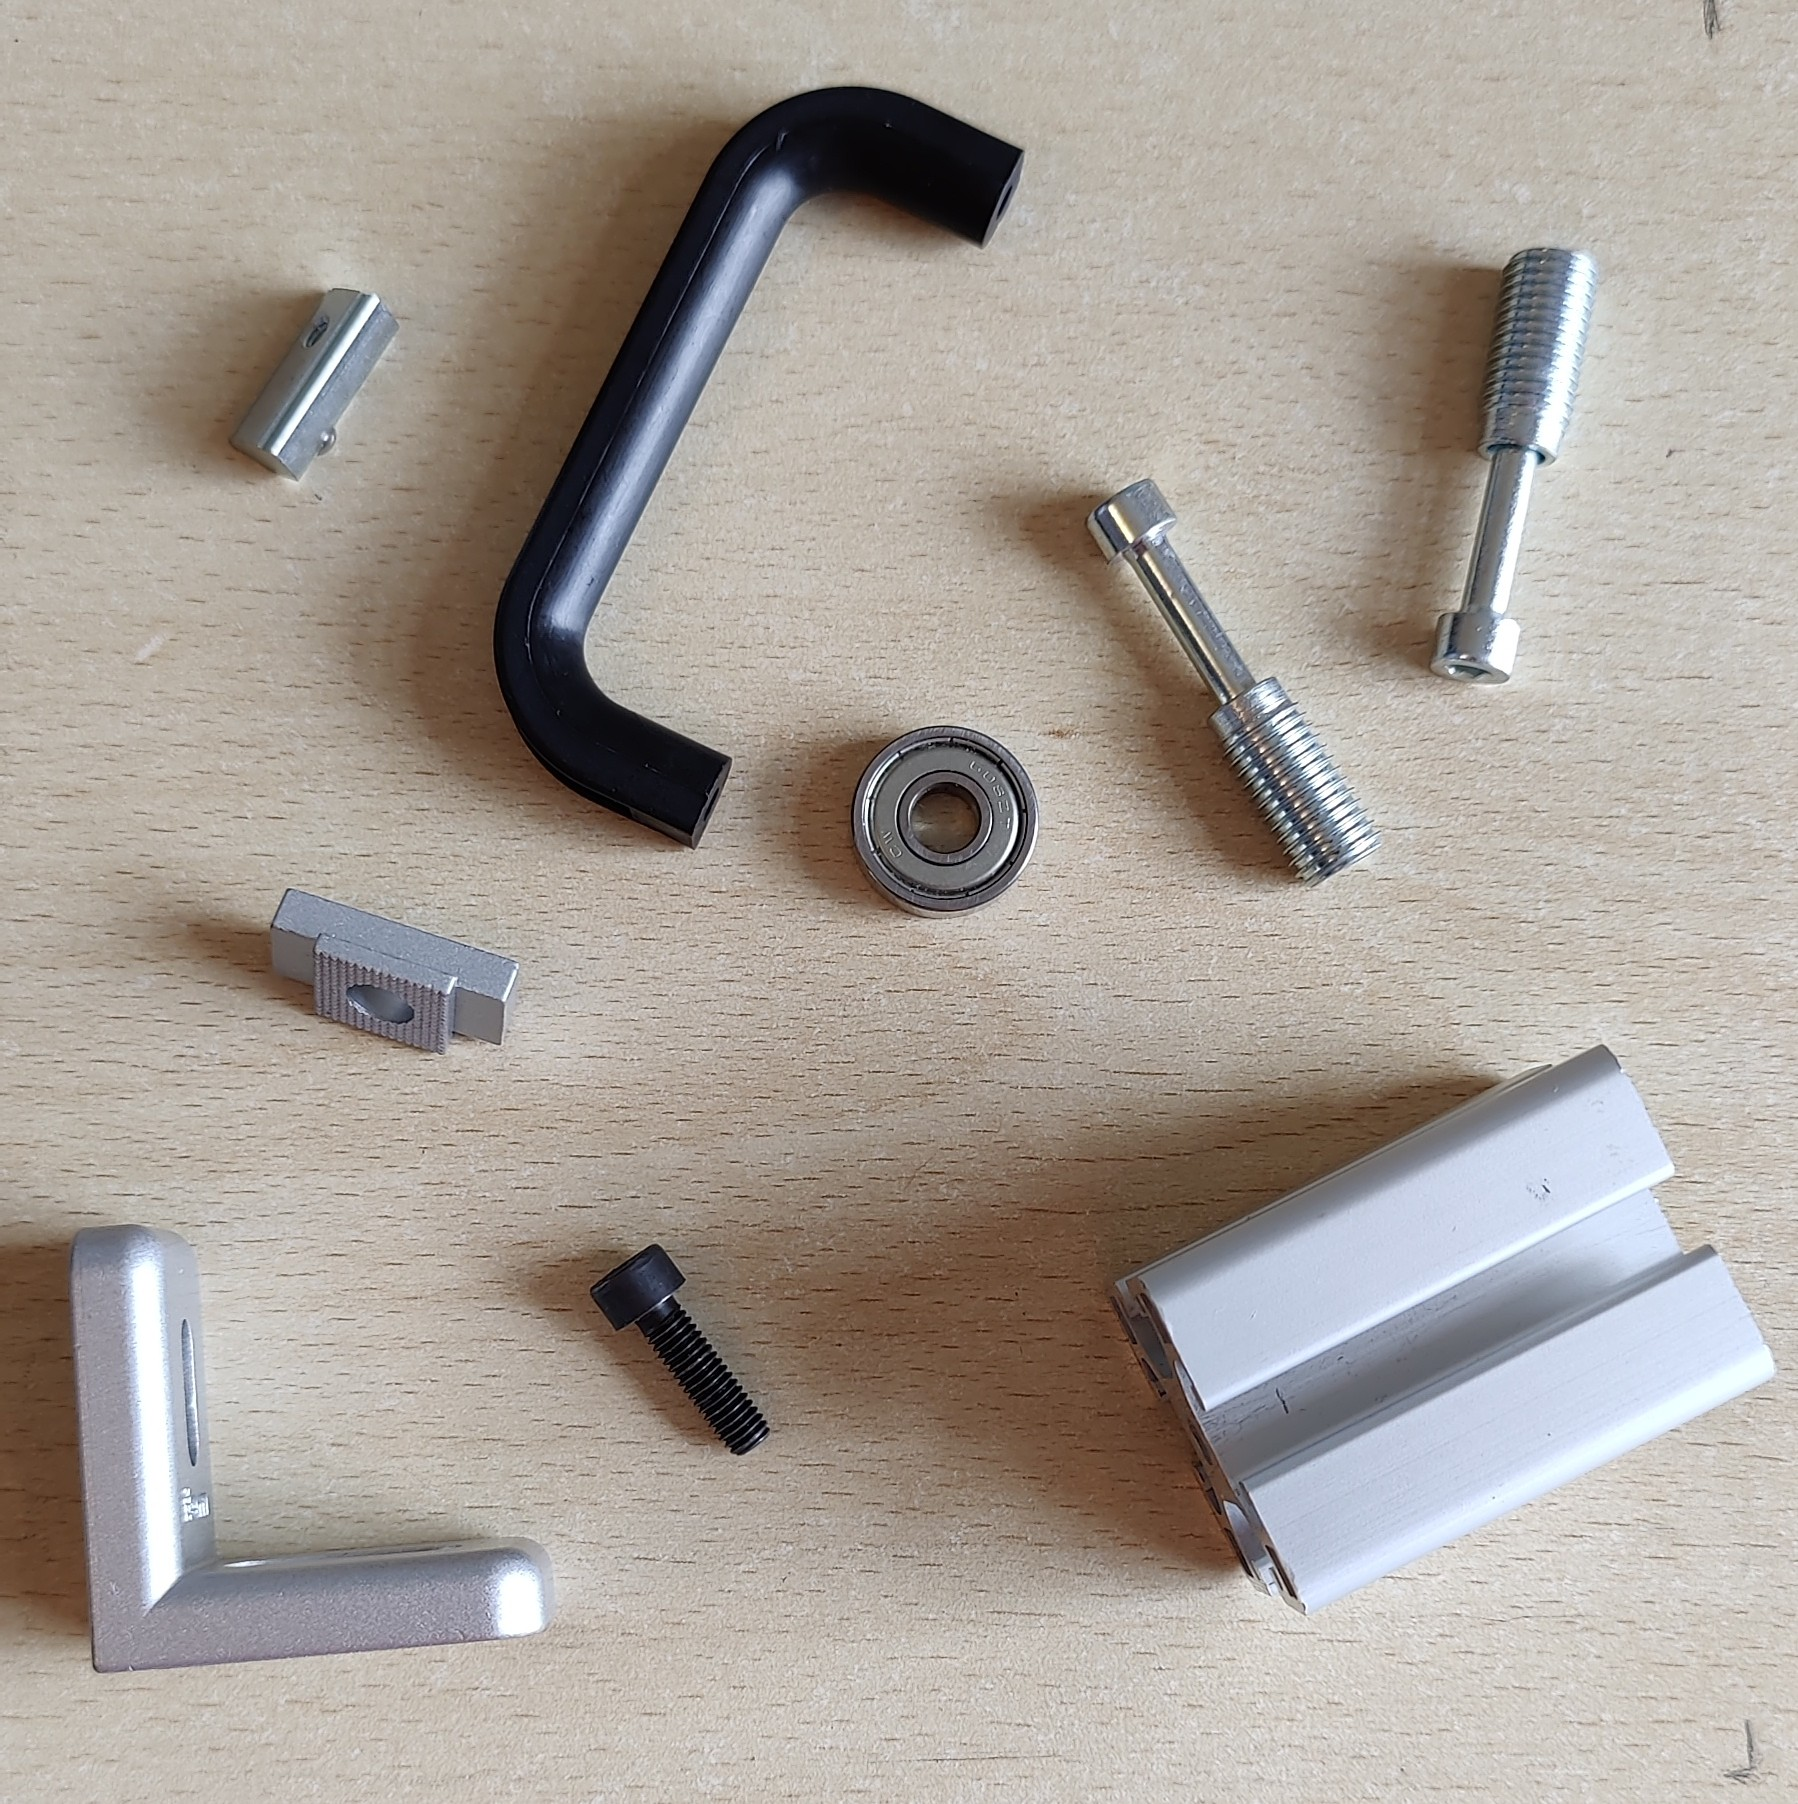Aluminium Extension: (1103, 1042, 1778, 1621)
Ball Bearing: (845, 726, 1041, 922)
Multiwinkel: (66, 1221, 561, 1677)
Pull Handle: (491, 82, 1027, 851)
Shoulder Socket Head Cap Screw: (1083, 474, 1385, 892), (1424, 244, 1602, 688)
Socket Head Cap Screw: (585, 1238, 772, 1460)
T Nut Square: (265, 886, 525, 1060)
T Spring Nut: (226, 285, 403, 486)
